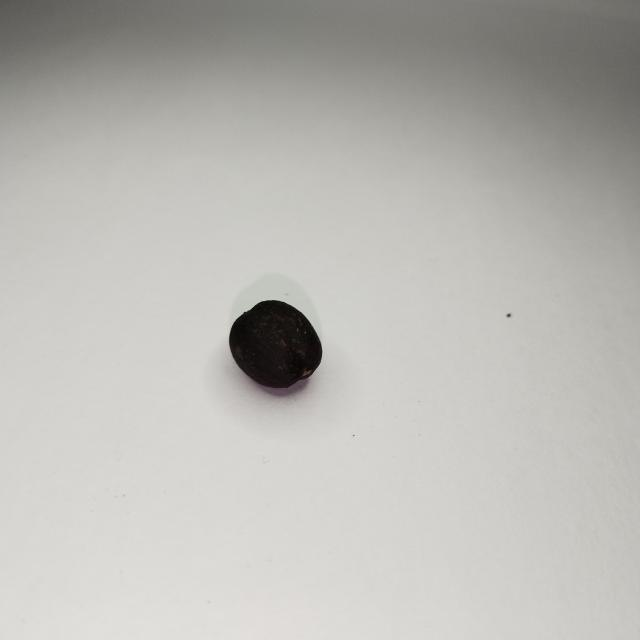Danado: (227, 303, 317, 391)
